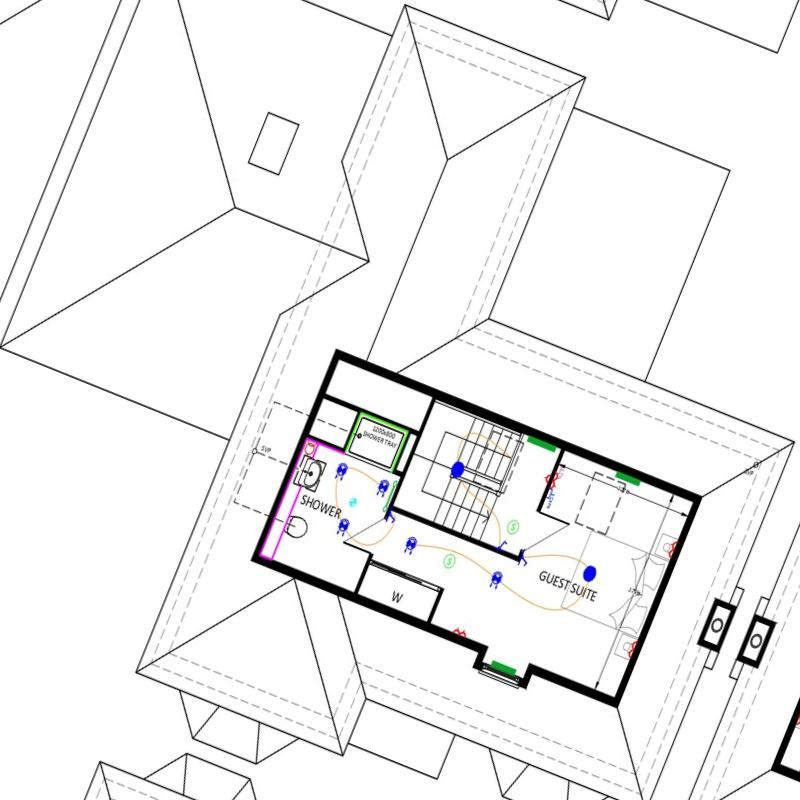Cat 6 Data Socket: (544, 489, 555, 509)
Ceiling Mounted Continuous Extract FanWith Boost Mode Activated By Light Switch: (491, 661, 517, 677), (349, 497, 357, 507)
Co-Ax TV Socket: (554, 465, 565, 476)
Double Socket: (626, 641, 639, 658), (666, 541, 678, 558), (549, 473, 560, 488), (452, 627, 466, 638)
Full Height Tiling: (345, 412, 409, 470)
Light Switch: (498, 541, 508, 551), (520, 555, 528, 567), (388, 513, 395, 523)
Low Energy Downlighter: (375, 479, 390, 497), (404, 536, 418, 555), (334, 463, 348, 481), (336, 518, 350, 536), (490, 571, 503, 589)
Low Energy Pendant Light: (450, 461, 465, 478), (583, 565, 597, 582)
Mains Wired Smoke Detector: (443, 554, 456, 568), (507, 520, 519, 535)
Radiator: (527, 435, 556, 453), (614, 471, 640, 487)
Shaver Socket: (304, 439, 316, 459)
Single Socket: (544, 473, 551, 483)
